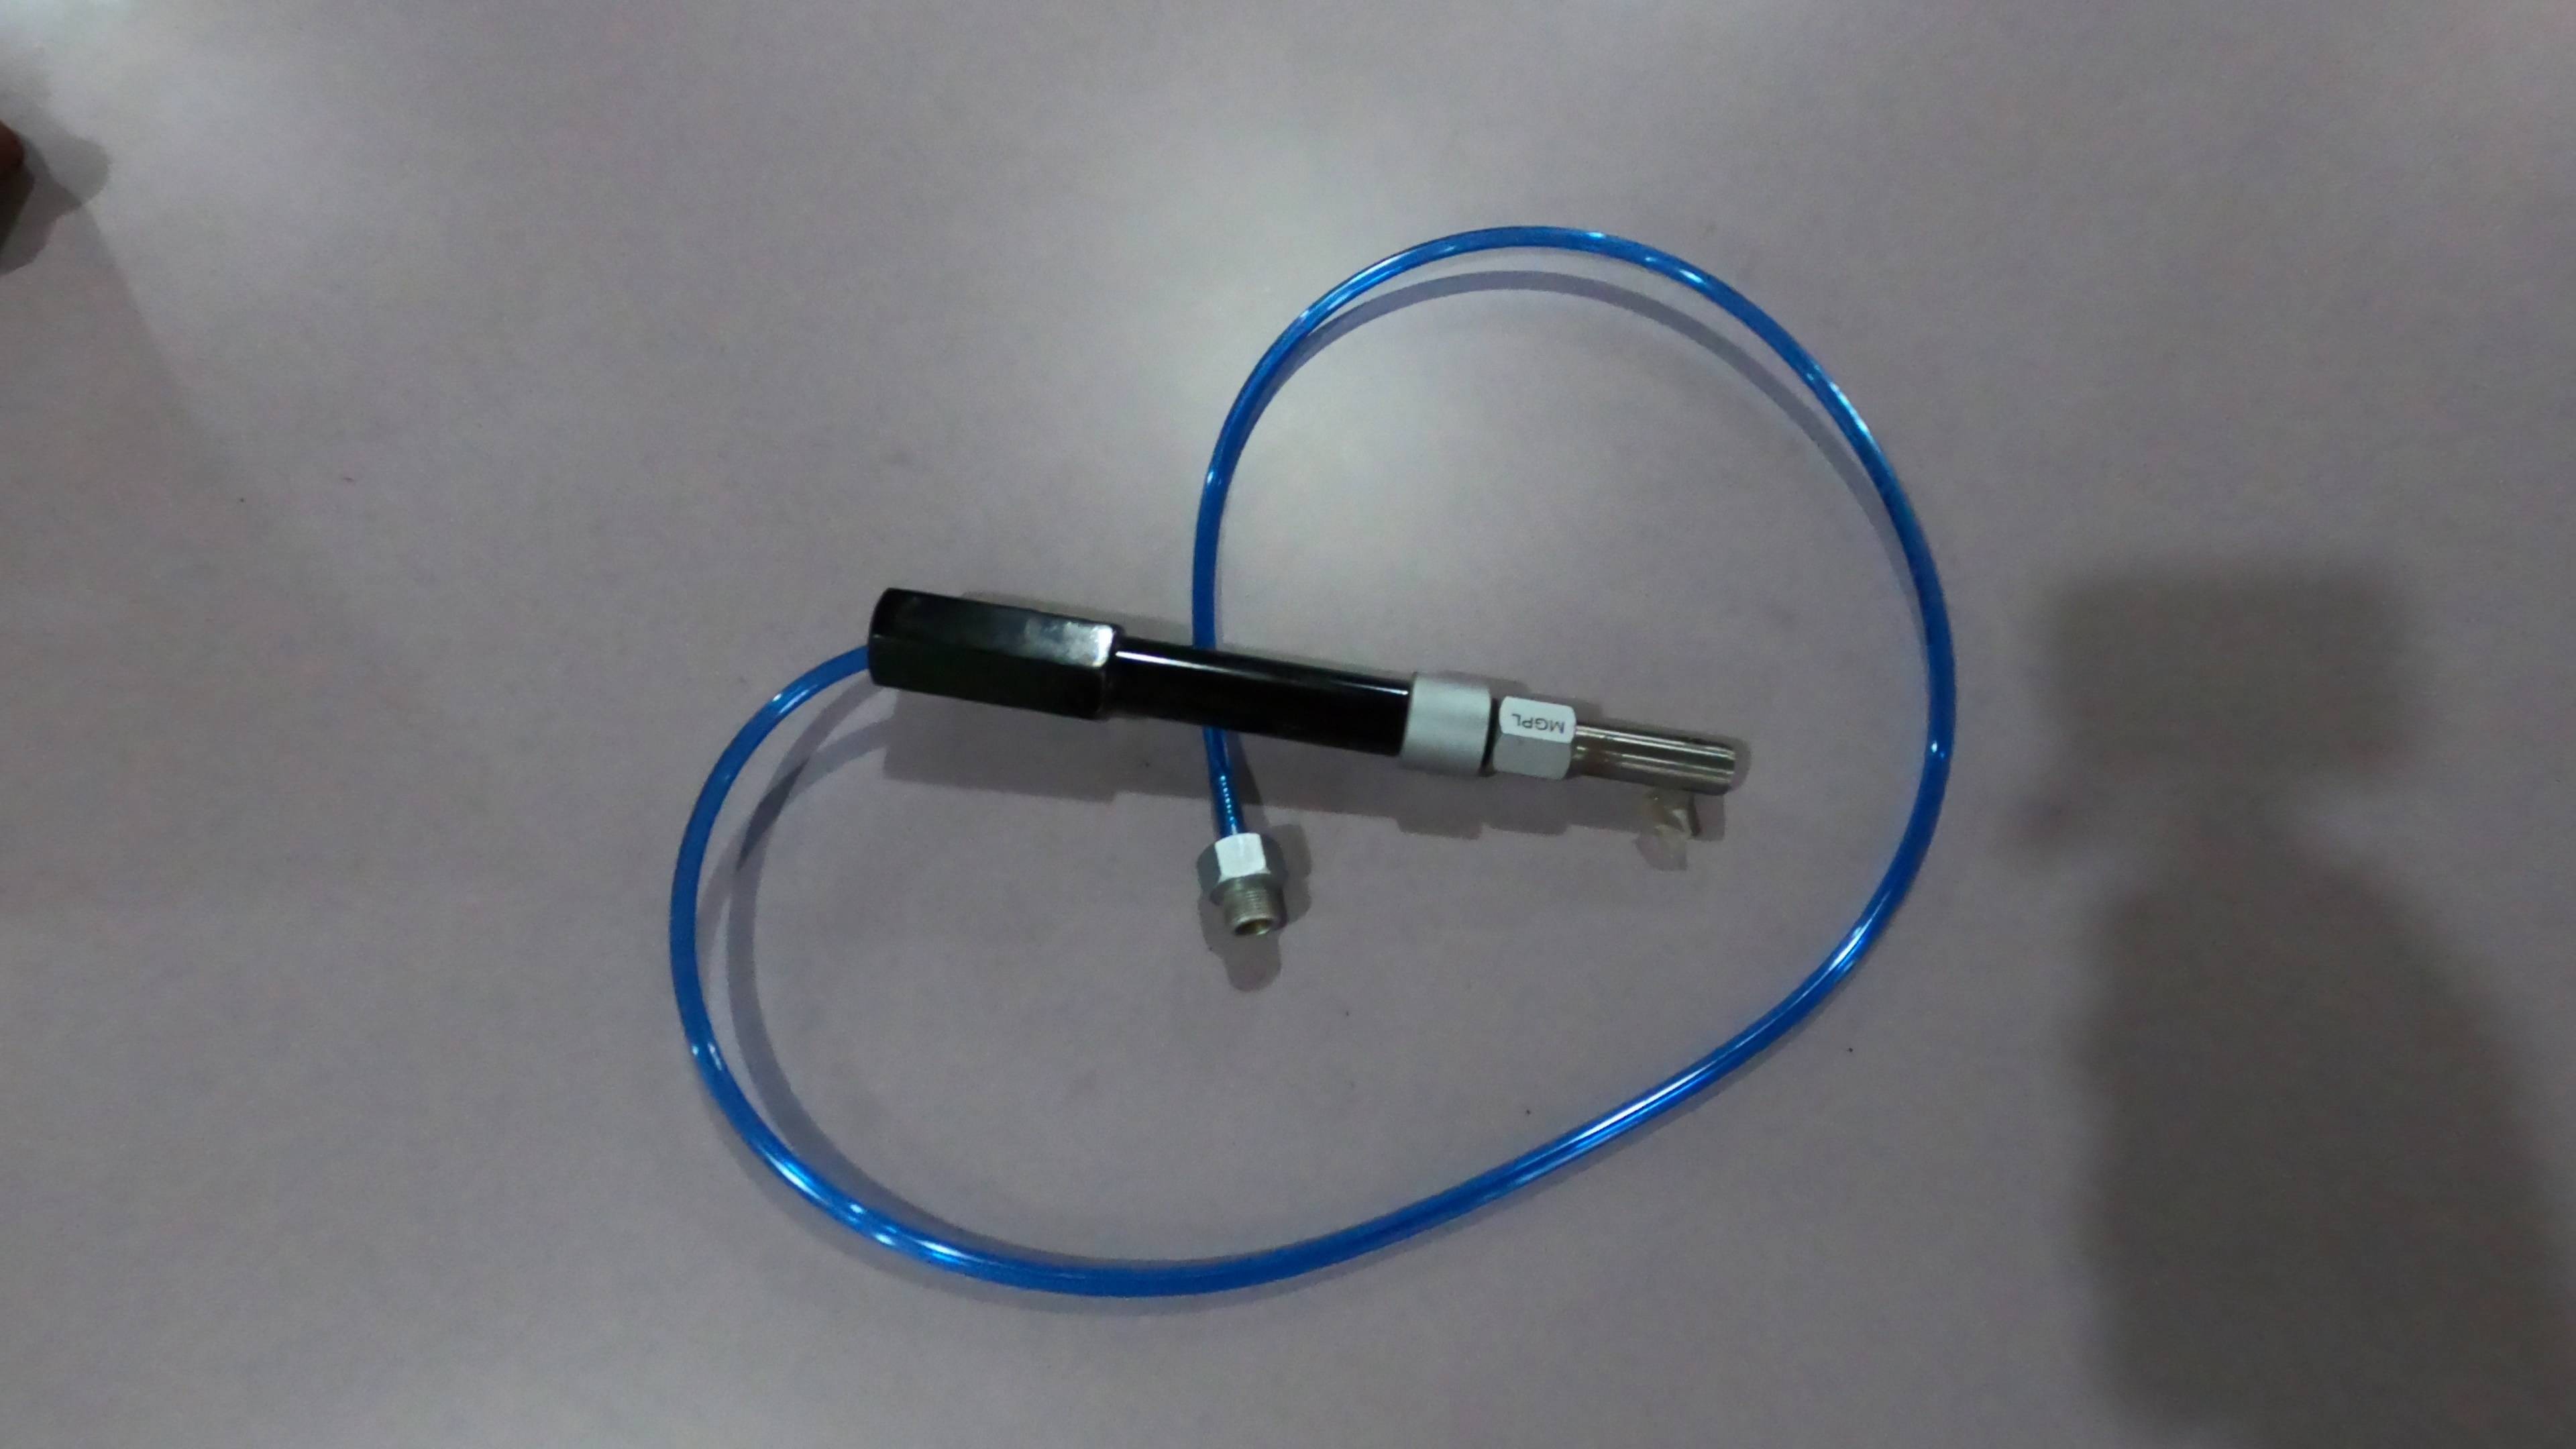air_gauge: (860, 570, 1748, 809)
